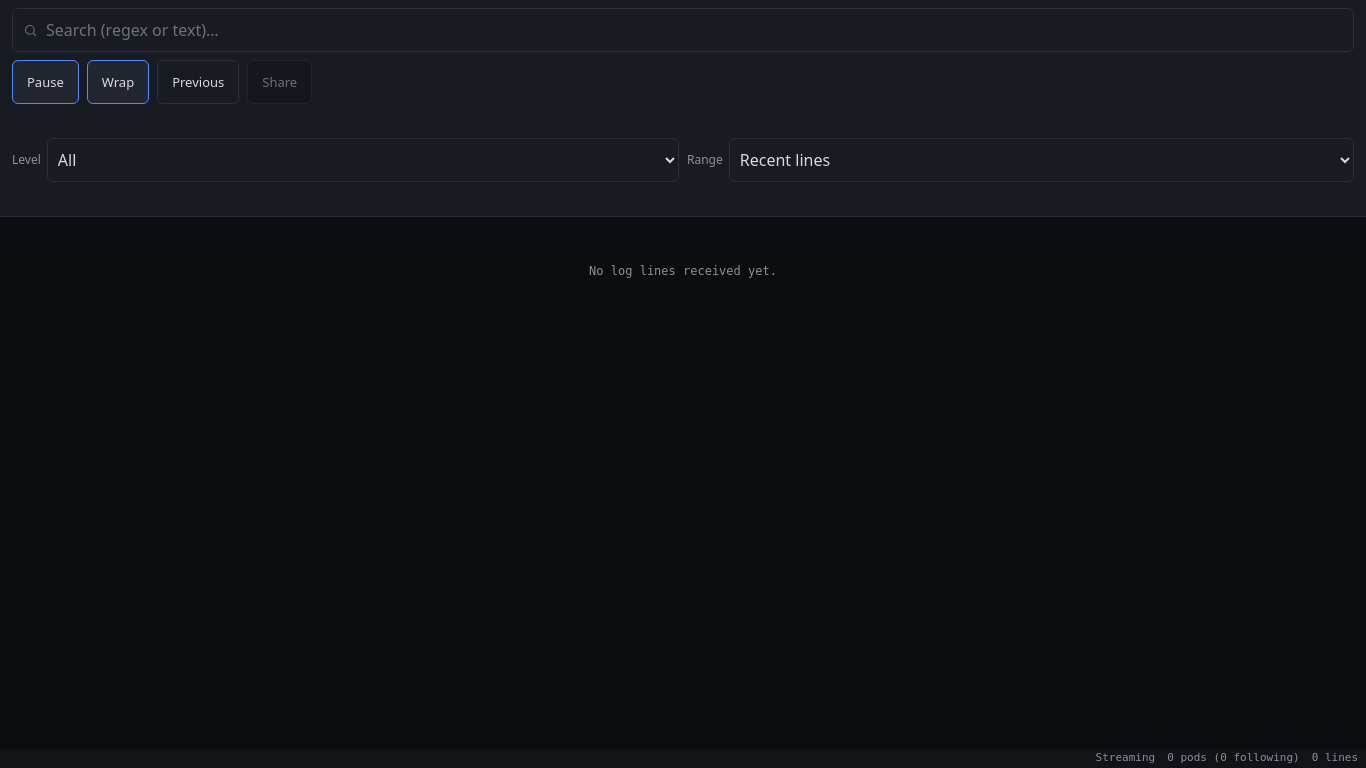
Scenario: WorkloadLogsView on the phone › Previous restarts the stream with previous: true and shows the previous-instance state
The image size is (1366, 768).
Click the button with test id "logs-previous-toggle".
click(198, 82)  # box top-left (157, 60), bottom-right (239, 104)
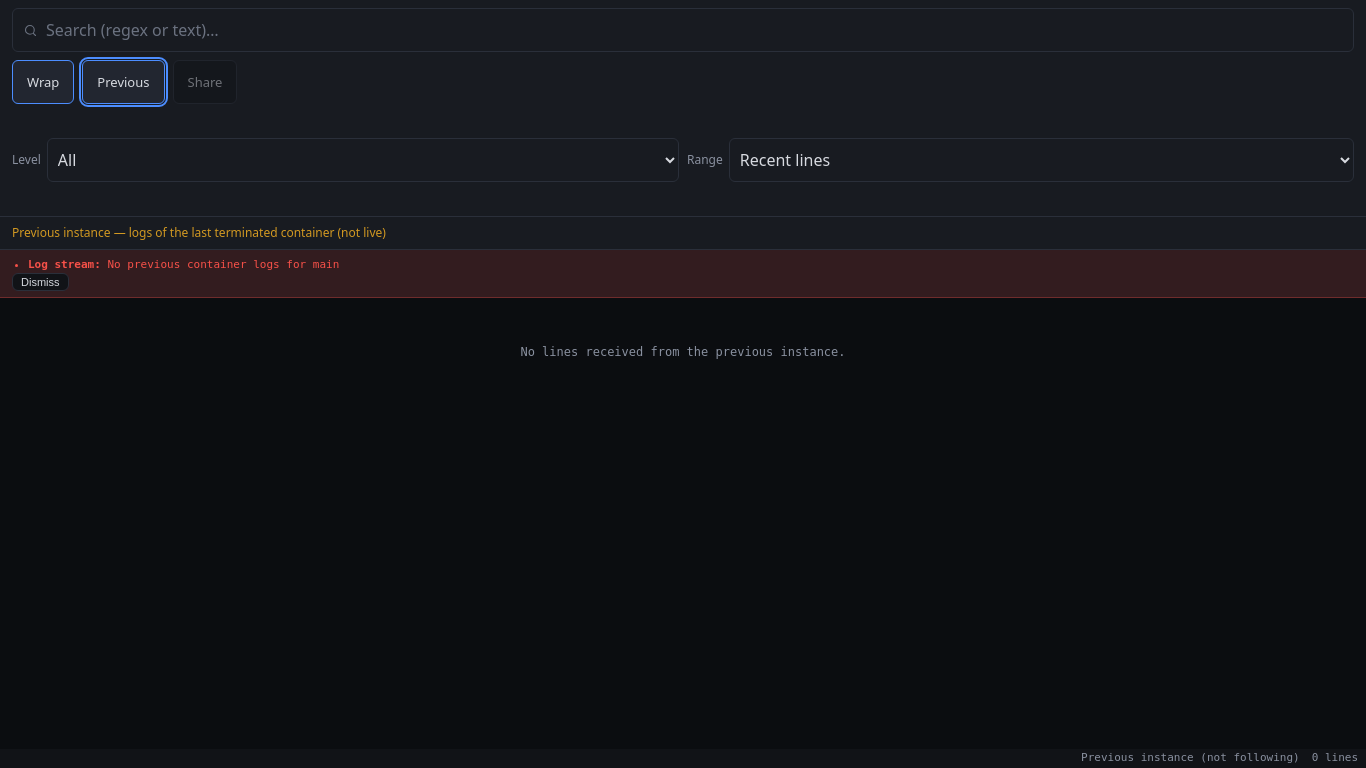
Now the message with test id "logs-previous-banner" shows "Previous instance", box top-left (12, 224), bottom-right (386, 241)
Now the button "Pause" is gone
Now the element with test id "workload-logs-status" shows "Previous instance (not following)", box top-left (1081, 751), bottom-right (1300, 764)
Click the button with test id "logs-previous-toggle".
click(123, 82)  # box top-left (82, 60), bottom-right (164, 104)
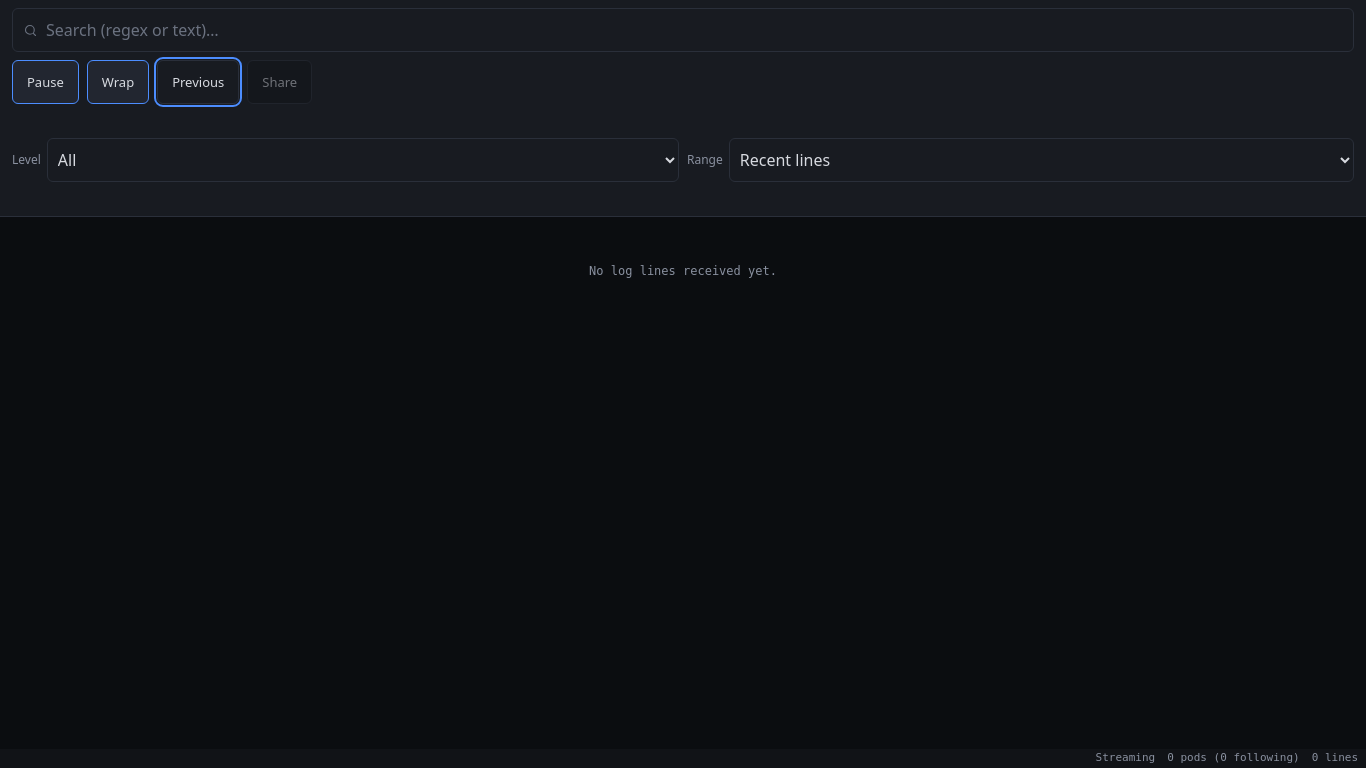
Now the button "Pause" is shown, box top-left (12, 60), bottom-right (79, 104)
